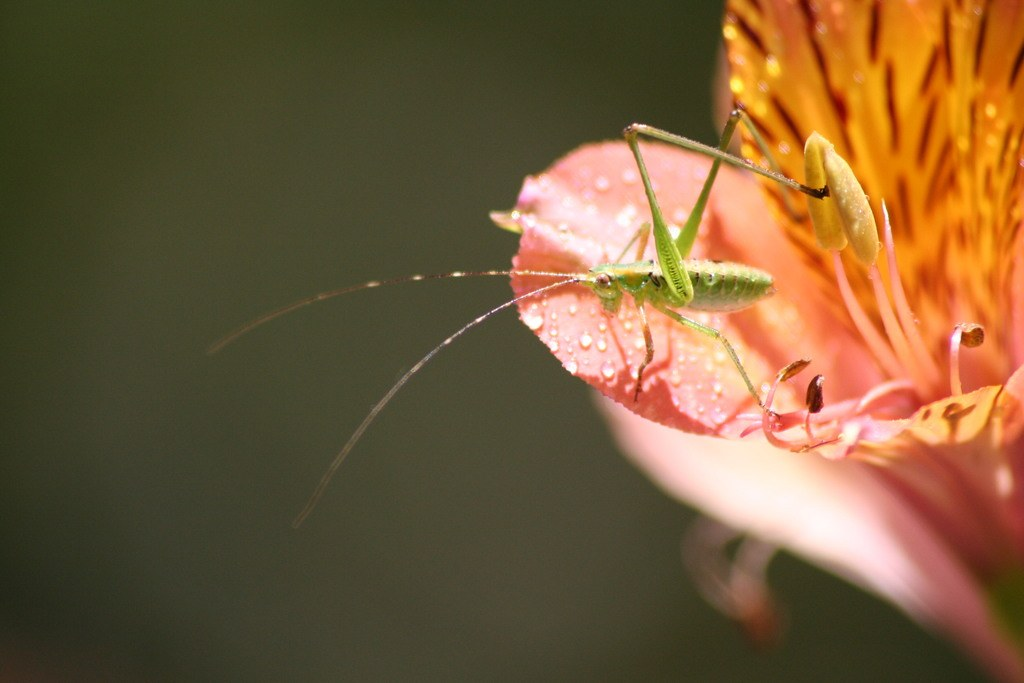insect: (505, 0, 1023, 682), (209, 107, 829, 525)
